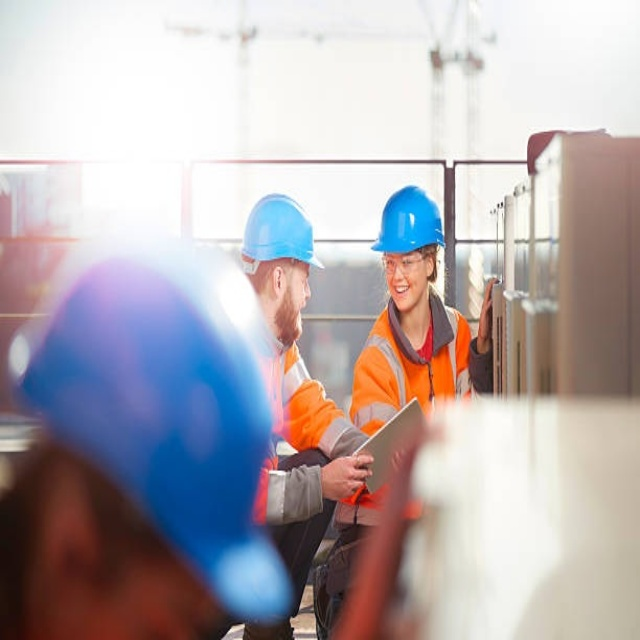Gafas: (380, 248, 431, 273)
Sin_gafas: (287, 267, 311, 287)
Sin_guantes: (322, 452, 374, 503), (475, 275, 500, 344)
Sin_mascara: (285, 296, 308, 333), (393, 284, 410, 296)
